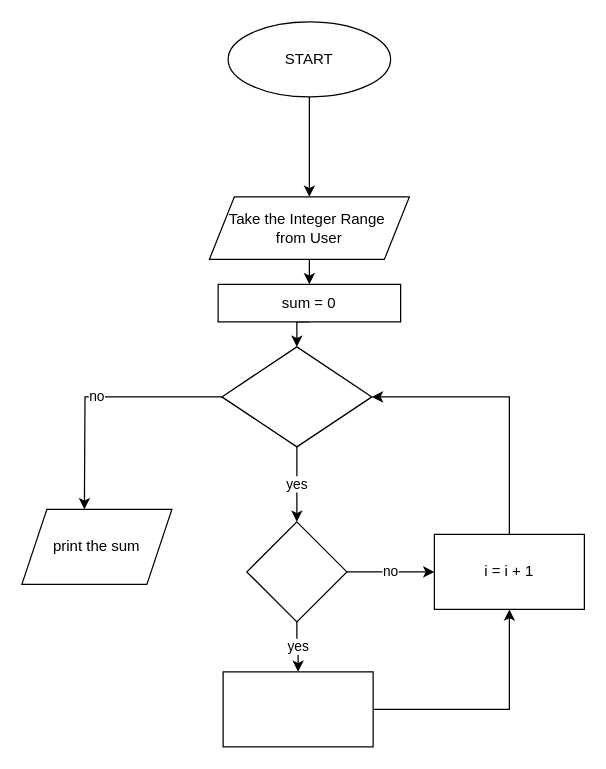
Image size: 606x769. Some labels were removed from this diagram. The shapes that lost their labels are listed below. From the top down, each one's centre as x and y in pixels, then its label:
point (296, 396): if i < upperRange
point (296, 571): if i%2 == 0
point (297, 709): Sum = Sum + i;
